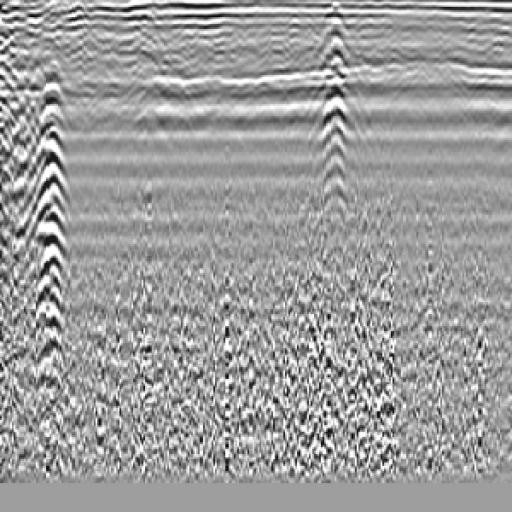non-metallic: (17, 25, 92, 383), (299, 1, 358, 230)
